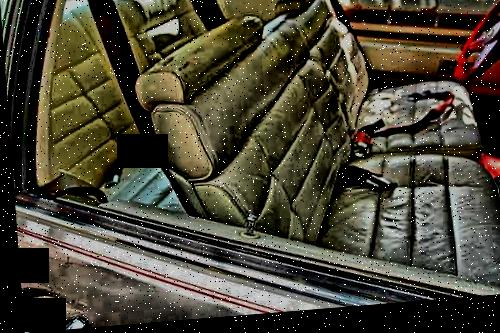seatbelt: (77, 0, 159, 113)
